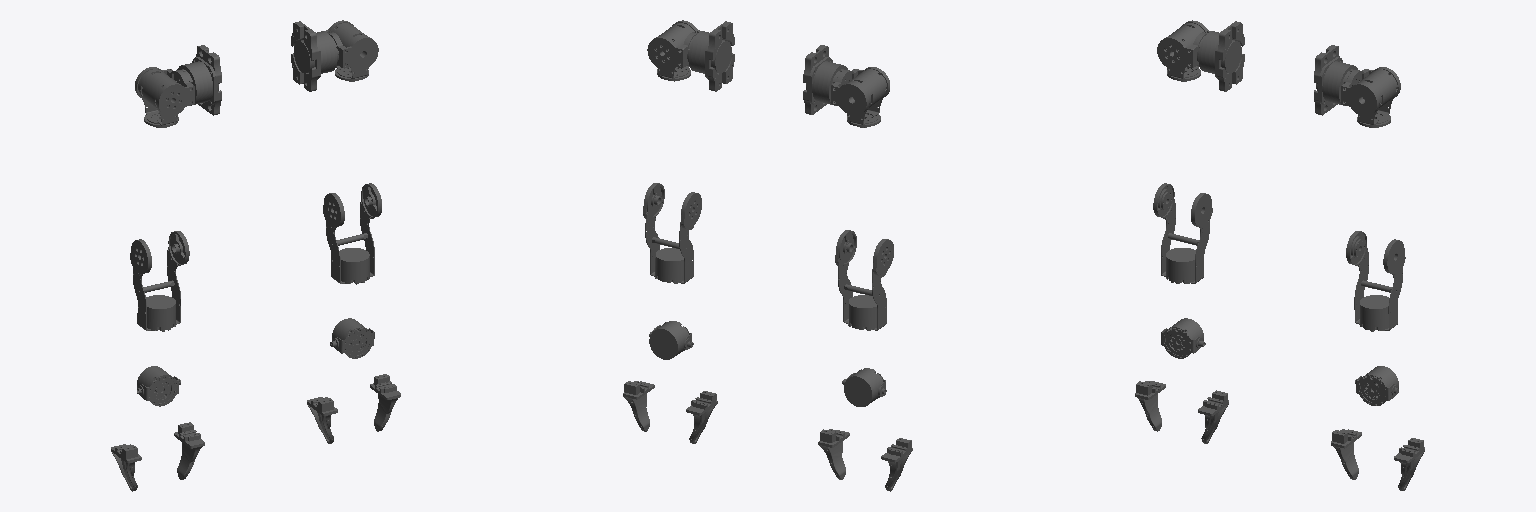
--- Render facts (derived) ---
Views: 3 orthographic renders of the robot side by side, from view 1: azimuth 30°, elevation 25°; view 2: azimuth 150°, elevation 25°; view 3: azimuth 330°, elevation 25°.
Robot: openarm_bimanual — 40 links, 39 joints (14 revolute, 4 prismatic, 21 fixed); root link world; default pose: every joint at zero.
Links seen in each view (by area): view 1: left_link5, right_link5, left_link1, right_link1, right_link2, right_link3, left_link7, right_link7, left_link2, right_link_left_jaw, left_link_left_jaw, left_link3 (+2 smaller); view 2: right_link5, left_link5, left_link1, right_link1, right_link2, right_link3, left_link7, right_link7, left_link2, right_link_left_jaw, left_link_left_jaw, left_link_right_jaw (+2 smaller); view 3: left_link5, right_link5, right_link1, left_link1, left_link2, right_link7, left_link3, left_link7, right_link2, left_link_right_jaw, right_link_right_jaw, left_link_left_jaw (+2 smaller).
Link boxes in pixels (<box>): left_link5: <box>323,183,381,284</box>; right_link5: <box>130,231,189,331</box>; left_link1: <box>291,21,338,91</box>; right_link1: <box>177,45,221,115</box>; right_link2: <box>135,67,194,115</box>; right_link3: <box>138,69,178,127</box>; left_link7: <box>330,318,374,358</box>; right_link7: <box>137,366,180,406</box>; left_link2: <box>325,20,378,69</box>; right_link_left_jaw: <box>174,422,204,479</box>; left_link_left_jaw: <box>370,374,400,431</box>; left_link3: <box>331,23,368,81</box>; right_link5: <box>835,230,893,330</box>; left_link5: <box>643,183,701,283</box>; left_link1: <box>687,21,734,91</box>; right_link1: <box>803,45,847,114</box>; right_link2: <box>831,67,889,115</box>; right_link3: <box>847,69,886,127</box>; left_link7: <box>649,321,693,359</box>; right_link7: <box>842,368,886,406</box>; left_link2: <box>647,20,699,69</box>; right_link_left_jaw: <box>818,429,849,479</box>; left_link_left_jaw: <box>623,381,654,431</box>; left_link_right_jaw: <box>686,391,717,443</box>; left_link5: <box>1346,231,1405,331</box>; right_link5: <box>1153,183,1212,283</box>; right_link1: <box>1197,21,1244,91</box>; left_link1: <box>1314,45,1357,115</box>; left_link2: <box>1341,67,1400,115</box>; right_link7: <box>1161,318,1205,358</box>; left_link3: <box>1357,69,1397,127</box>; left_link7: <box>1355,366,1398,405</box>; right_link2: <box>1157,20,1209,69</box>; left_link_right_jaw: <box>1331,429,1361,479</box>; right_link_right_jaw: <box>1135,381,1165,431</box>; left_link_left_jaw: <box>1394,438,1424,490</box>.
Size in the robot's own frame: 0.5428 by 0.082 by 0.7993 metres.
Meshes: 13 distinct files referenced, 14 mesh visuals loaded (8 binary STL); not drawn: 7 (reference not matched to a file when rendering), 1 (reference in a form the renderer does not follow; not among the files counted above).

URDF robot description (openarm_bimanual):
<?xml version="1.0" ?>
<!-- =================================================================================== -->
<!-- |    This document was autogenerated by xacro from openarm_bimanual.urdf.xacro    | -->
<!-- |    EDITING THIS FILE BY HAND IS NOT RECOMMENDED                                 | -->
<!-- =================================================================================== -->
<robot name="openarm_bimanual">
  <material name="gray">
    <color rgba="0.4117647058823529 0.4117647058823529 0.4117647058823529 1.0"/>
  </material>
  <material name="dark_gray">
    <color rgba="0.19607843137254902 0.19607843137254902 0.19607843137254902 1.0"/>
  </material>
  <link name="pedestal_link">
    <visual>
      <origin rpy="0 0 0" xyz="0.0 0.0 0.0"/>
      <geometry>
        <mesh filename="package://openarm_bimanual_description/meshes/pedestal_link.stl"/>
      </geometry>
      <material name="gray">
        <color rgba="0.4117647058823529 0.4117647058823529 0.4117647058823529 1.0"/>
      </material>
    </visual>
    <collision>
      <origin rpy="0 0 0" xyz="0.0 0.0 0.489"/>
      <geometry>
        <box size="0.18 0.06 0.978000000000004"/>
      </geometry>
    </collision>
    <inertial>
      <mass value="4.850309883435878"/>
      <origin rpy="0 0 0" xyz="0.0 -0.0180451 0.410247"/>
      <inertia ixx="0.6232810322991779" ixy="7.916644206828546e-12" ixz="-1.094192214704477e-11" iyy="0.6253514495087933" iyz="-0.03342233248166168" izz="0.02000994027356939"/>
    </inertial>
  </link>
  <material name="aluminum">
    <color rgba="0.5 0.5 0.5 1"/>
  </material>
  <material name="plastic">
    <color rgba="0.1 0.1 0.1 1"/>
  </material>
  <!-- camera body, with origin at bottom screw mount -->
  <joint name="camera_joint" type="fixed">
    <origin rpy="0.0 1.3962634015954636 -1.5707963267948966" xyz="0.0 -0.025 0.995216"/>
    <parent link="pedestal_link"/>
    <child link="camera_bottom_screw_frame"/>
  </joint>
  <link name="camera_bottom_screw_frame"/>
  <joint name="camera_link_joint" type="fixed">
    <origin rpy="0 0 0" xyz="0.010600000000000002 0.0175 0.0125"/>
    <parent link="camera_bottom_screw_frame"/>
    <child link="camera_link"/>
  </joint>
  <link name="camera_link">
    <visual>
      <!-- the mesh origin is at front plate in between the two infrared camera axes -->
      <origin rpy="1.5707963267948966 0 1.5707963267948966" xyz="0.0043 -0.0175 0"/>
      <geometry>
        <mesh filename="file:///opt/ros/humble/share/realsense2_description/meshes/d435.dae"/>
      </geometry>
    </visual>
    <collision>
      <origin rpy="0 0 0" xyz="0 -0.0175 0"/>
      <geometry>
        <box size="0.02505 0.09 0.025"/>
      </geometry>
    </collision>
    <inertial>
      <!-- The following are not reliable values, and should not be used for modeling -->
      <mass value="0.072"/>
      <origin xyz="0 0 0"/>
      <inertia ixx="0.003881243" ixy="0.0" ixz="0.0" iyy="0.000498940" iyz="0.0" izz="0.003879257"/>
    </inertial>
  </link>
  <!-- camera depth joints and links -->
  <joint name="camera_depth_joint" type="fixed">
    <origin rpy="0 0 0" xyz="0 0 0"/>
    <parent link="camera_link"/>
    <child link="camera_depth_frame"/>
  </joint>
  <link name="camera_depth_frame"/>
  <joint name="camera_depth_optical_joint" type="fixed">
    <origin rpy="-1.5707963267948966 0 -1.5707963267948966" xyz="0 0 0"/>
    <parent link="camera_depth_frame"/>
    <child link="camera_depth_optical_frame"/>
  </joint>
  <link name="camera_depth_optical_frame"/>
  <!-- camera left IR joints and links -->
  <joint name="camera_infra1_joint" type="fixed">
    <origin rpy="0 0 0" xyz="0 0.0 0"/>
    <parent link="camera_link"/>
    <child link="camera_infra1_frame"/>
  </joint>
  <link name="camera_infra1_frame"/>
  <joint name="camera_infra1_optical_joint" type="fixed">
    <origin rpy="-1.5707963267948966 0 -1.5707963267948966" xyz="0 0 0"/>
    <parent link="camera_infra1_frame"/>
    <child link="camera_infra1_optical_frame"/>
  </joint>
  <link name="camera_infra1_optical_frame"/>
  <!-- camera right IR joints and links -->
  <joint name="camera_infra2_joint" type="fixed">
    <origin rpy="0 0 0" xyz="0 -0.05 0"/>
    <parent link="camera_link"/>
    <child link="camera_infra2_frame"/>
  </joint>
  <link name="camera_infra2_frame"/>
  <joint name="camera_infra2_optical_joint" type="fixed">
    <origin rpy="-1.5707963267948966 0 -1.5707963267948966" xyz="0 0 0"/>
    <parent link="camera_infra2_frame"/>
    <child link="camera_infra2_optical_frame"/>
  </joint>
  <link name="camera_infra2_optical_frame"/>
  <!-- camera color joints and links -->
  <joint name="camera_color_joint" type="fixed">
    <origin rpy="0 0 0" xyz="0 0.015 0"/>
    <parent link="camera_link"/>
    <child link="camera_color_frame"/>
  </joint>
  <link name="camera_color_frame"/>
  <joint name="camera_color_optical_joint" type="fixed">
    <origin rpy="-1.5707963267948966 0 -1.5707963267948966" xyz="0 0 0"/>
    <parent link="camera_color_frame"/>
    <child link="camera_color_optical_frame"/>
  </joint>
  <link name="camera_color_optical_frame"/>
  <link name="camera_accel_frame"/>
  <link name="camera_accel_optical_frame"/>
  <link name="camera_gyro_frame"/>
  <link name="camera_gyro_optical_frame"/>
  <joint name="camera_accel_joint" type="fixed">
    <origin rpy="0 0 0" xyz="-0.01174 -0.00552 0.0051"/>
    <parent link="camera_link"/>
    <child link="camera_accel_frame"/>
  </joint>
  <joint name="camera_accel_optical_joint" type="fixed">
    <origin rpy="-1.5707963267948966 0 -1.5707963267948966" xyz="0 0 0"/>
    <parent link="camera_accel_frame"/>
    <child link="camera_accel_optical_frame"/>
  </joint>
  <joint name="camera_gyro_joint" type="fixed">
    <origin rpy="0 0 0" xyz="-0.01174 -0.00552 0.0051"/>
    <parent link="camera_link"/>
    <child link="camera_gyro_frame"/>
  </joint>
  <joint name="camera_gyro_optical_joint" type="fixed">
    <origin rpy="-1.5707963267948966 0 -1.5707963267948966" xyz="0 0 0"/>
    <parent link="camera_gyro_frame"/>
    <child link="camera_gyro_optical_frame"/>
  </joint>
  <link name="world"/>
  <joint name="dummy_joint" type="fixed">
    <parent link="world"/>
    <child link="pedestal_link"/>
    <origin rpy="0.0 0.0 0.0" xyz="0.0 0.0 0.0"/>
  </joint>
  <!-- side right, left -->
  <!-- recommended prefixes left_, right_, etc. -->
  <!-- zero_pos up, arm -->
  <ros2_control name="right_OpenArmHW" type="system">
    <hardware>
      <!-- By default, set up controllers for simulation. This won't work on real hardware -->
      <!-- <plugin>mock_components/GenericSystem</plugin> -->
      <plugin>openarm_hardware/OpenArmHW</plugin>
      <param name="prefix">right_</param>
      <param name="can_device">can0</param>
    </hardware>
    <joint name="right_rev1">
      <command_interface name="position"/>
      <command_interface name="velocity"/>
      <command_interface name="effort"/>
      <state_interface name="position"/>
      <state_interface name="velocity"/>
      <state_interface name="effort"/>
    </joint>
    <joint name="right_rev2">
      <command_interface name="position"/>
      <command_interface name="velocity"/>
      <command_interface name="effort"/>
      <state_interface name="position"/>
      <state_interface name="velocity"/>
      <state_interface name="effort"/>
    </joint>
    <joint name="right_rev3">
      <command_interface name="position"/>
      <command_interface name="velocity"/>
      <command_interface name="effort"/>
      <state_interface name="position"/>
      <state_interface name="velocity"/>
      <state_interface name="effort"/>
    </joint>
    <joint name="right_rev4">
      <command_interface name="position"/>
      <command_interface name="velocity"/>
      <command_interface name="effort"/>
      <state_interface name="position"/>
      <state_interface name="velocity"/>
      <state_interface name="effort"/>
    </joint>
    <joint name="right_rev5">
      <command_interface name="position"/>
      <command_interface name="velocity"/>
      <command_interface name="effort"/>
      <state_interface name="position"/>
      <state_interface name="velocity"/>
      <state_interface name="effort"/>
    </joint>
    <joint name="right_rev6">
      <command_interface name="position"/>
      <command_interface name="velocity"/>
      <command_interface name="effort"/>
      <state_interface name="position"/>
      <state_interface name="velocity"/>
      <state_interface name="effort"/>
    </joint>
    <joint name="right_rev7">
      <command_interface name="position"/>
      <command_interface name="velocity"/>
      <command_interface name="effort"/>
      <state_interface name="position"/>
      <state_interface name="velocity"/>
      <state_interface name="effort"/>
    </joint>
    <joint name="right_left_pris1">
      <command_interface name="position"/>
      <state_interface name="position"/>
      <state_interface name="velocity"/>
    </joint>
    <!-- <joint name="${prefix}right_pris2">
                <state_interface name="position">
                  <param name="initial_value">${initial_positions['right_pris2']}</param>
                </state_interface>
            </joint> -->
  </ros2_control>
  <link name="right_dummy_link"/>
  <joint name="right_dummy_joint" type="fixed">
    <parent link="right_dummy_link"/>
    <child link="right_link1"/>
  </joint>
  <link name="right_link1">
    <visual>
      <origin rpy="0 0 0" xyz="0.0 0.0 -0.0007"/>
      <geometry>
        <mesh filename="package://openarm_description/meshes/link1.stl"/>
      </geometry>
      <material name="gray"/>
    </visual>
    <collision>
      <origin rpy="0 0 0" xyz="0.0 0.0 0.0289"/>
      <geometry>
        <box size="0.11 0.073 0.0592"/>
      </geometry>
    </collision>
    <inertial>
      <mass value="0.5769283920617254"/>
      <origin rpy="0 0 0" xyz="0.0 2.52845e-05 0.0229621"/>
      <inertia ixx="0.00034035167574060775" ixy="-2.623557985991217e-18" ixz="-6.093726095527621e-18" iyy="0.0004300058300010205" iyz="-5.09829482074806e-07" izz="0.0004802171432001996"/>
    </inertial>
  </link>
  <link name="right_link2">
    <visual>
      <origin rpy="0 0 0" xyz="0.0 0.0 -0.05395"/>
      <geometry>
        <mesh filename="package://openarm_description/meshes/link2.stl"/>
      </geometry>
      <material name="gray"/>
    </visual>
    <collision>
      <origin rpy="0 0 0" xyz="0.0 0.0 0.0371236"/>
      <geometry>
        <box size="0.0590000000149012 0.08200000000000002 0.0742471498637348"/>
      </geometry>
    </collision>
    <inertial>
      <mass value="0.16257504134917358"/>
      <origin rpy="0 0 0" xyz="-0.000225878 -0.00183836 0.0278368"/>
      <inertia ixx="0.00023903110213294374" ixy="-7.551692921096027e-08" ixz="-1.1282723362433474e-06" iyy="0.00010490798314778774" iyz="5.9079627839725245e-06" izz="0.00019737368685935776"/>
    </inertial>
  </link>
  <link name="right_link3">
    <visual>
      <origin rpy="1.5707963267948966 0 0" xyz="0.0 0.0987 0.02975"/>
      <geometry>
        <mesh filename="package://openarm_description/meshes/link3.stl"/>
      </geometry>
      <material name="gray"/>
    </visual>
    <collision>
      <origin rpy="1.5707963267948966 0 0" xyz="-0.0164466 -0.00045542 0.02975"/>
      <geometry>
        <box size="0.08989101803441879 0.06999999999999983 0.05903276947803012"/>
      </geometry>
    </collision>
    <inertial>
      <mass value="0.4201676469910031"/>
      <origin rpy="1.5707963267948966 0 0" xyz="-0.00688022 0.0 0.0282752"/>
      <inertia ixx="0.00020256001126230057" ixy="6.004247875311213e-06" ixz="1.3304903057525575e-06" iyy="0.0002970624991387495" iyz="5.980157765704868e-07" izz="0.00032889994351244413"/>
    </inertial>
  </link>
  <link name="right_link4">
    <visual>
      <origin rpy="3.141592653589793 -1.5620381439005742 0" xyz="-0.0986962 0.0 0.0621144"/>
      <geometry>
        <mesh filename="package://openarm_description/meshes/link4.stl"/>
      </geometry>
      <material name="gray"/>
    </visual>
    <collision>
      <origin rpy="3.141592653589793 -1.5620381439005742 0" xyz="0.000266276 -0.0125642 -0.132604"/>
      <geometry>
        <box size="0.27584673777150337 0.08211429171582063 0.07186573179325861"/>
      </geometry>
    </collision>
    <inertial>
      <mass value="0.819475539373447"/>
      <origin rpy="3.141592653589793 -1.5620381439005742 0" xyz="0.000781326 -0.0019461 -0.132411"/>
      <inertia ixx="0.00044078452033976287" ixy="6.020023694043618e-05" ixz="0.00014637459261941218" iyy="0.009208791480530413" iyz="1.5469710436444469e-06" izz="0.009170539316023695"/>
    </inertial>
  </link>
  <link name="right_link5">
    <visual>
      <origin rpy="0 -0.008758182894317394 0" xyz="0.303864 0.0 -0.128451"/>
      <geometry>
        <mesh filename="package://openarm_description/meshes/link5.stl"/>
      </geometry>
      <material name="gray"/>
    </visual>
    <collision>
      <origin rpy="0 -0.008758182894316818 0" xyz="-0.0542814 0.00265291 -0.0302022"/>
      <geometry>
        <box size="0.16827213220625828 0.06430555048399171 0.08257859967140947"/>
      </geometry>
    </collision>
    <inertial>
      <mass value="0.4086748254352304"/>
      <origin rpy="0 -0.008758182894316905 0" xyz="-0.0831891 0.00251789 -0.0290107"/>
      <inertia ixx="0.00031417157425298747" ixy="-1.1391566029536723e-05" ixz="-1.883474090056124e-05" iyy="0.001221711435313989" iyz="1.46725418421127e-06" izz="0.0010755135067660488"/>
    </inertial>
  </link>
  <link name="right_link6">
    <visual>
      <origin rpy="-2.1276679791326423 -1.5542266826921929 0" xyz="-0.0485412 -0.0860404 0.437784"/>
      <geometry>
        <mesh filename="package://openarm_description/meshes/link6_rightarm.stl"/>
      </geometry>
      <material name="gray"/>
    </visual>
    <collision>
      <origin rpy="-2.127667979132636 -1.5542266826921927 0" xyz="-0.00260794 -0.00312921 -0.0652641"/>
      <geometry>
        <box size="0.13114353004704765 0.05953478325301745 0.08817196195081879"/>
      </geometry>
    </collision>
    <inertial>
      <mass value="0.3448471958049249"/>
      <origin rpy="-2.127667979132636 -1.5542266826921927 0" xyz="-0.00898536 -0.0135065 -0.0438611"/>
      <inertia ixx="0.00019355980999748924" ixy="-1.0061665815148114e-06" ixz="-3.9096495715032716e-05" iyy="0.0003486912031865755" iyz="6.088060315273385e-06" izz="0.00028774975153756256"/>
    </inertial>
  </link>
  <link name="right_link7">
    <visual>
      <origin rpy="0 -0.008758182894510852 0" xyz="0.558839 -0.00358671 -0.0631962"/>
      <geometry>
        <mesh filename="package://openarm_description/meshes/link7_rightarm.stl"/>
      </geometry>
      <material name="gray"/>
    </visual>
    <collision>
      <origin rpy="0 -0.008758182894511114 0" xyz="-0.000318103 0.0022839 0.0340014"/>
      <geometry>
        <box size="0.058327402175132874 0.04432916698753661 0.08267601622411752"/>
      </geometry>
    </collision>
    <inertial>
      <mass value="0.2782138078738053"/>
      <origin rpy="0 -0.008758182894511043 0" xyz="5.99432e-05 0.0041433 0.0354274"/>
      <inertia ixx="0.00010424153315648891" ixy="2.735265831785291e-07" ixz="-1.0662322382945994e-07" iyy="0.00012313550743283462" iyz="-8.604996754782856e-08" izz="9.221319958512582e-05"/>
    </inertial>
  </link>
  <link name="right_link8">
    <visual>
      <origin rpy="1.5709195259578714 -0.014065461951077267 0" xyz="0.557948 0.103587 0.019724"/>
      <geometry>
        <mesh filename="package://openarm_description/meshes/link8.stl"/>
      </geometry>
      <material name="gray"/>
    </visual>
    <collision>
      <origin rpy="1.5709195259578714 -0.01406546195107726 0" xyz="-0.042694 -0.000543176 0.0110286"/>
      <geometry>
        <box size="0.13038799671743653 0.05180887692688926 0.1601236763440867"/>
      </geometry>
    </collision>
    <inertial>
      <mass value="0.31261452743802165"/>
      <origin rpy="1.5709195259578714 -0.01406546195107726 0" xyz="-0.0607602 -0.000341696 0.00876618"/>
      <inertia ixx="0.00023465661366788053" ixy="7.609048882006294e-05" ixz="3.088694121124684e-07" iyy="0.0005065459365215377" iyz="1.9022818028658623e-07" izz="0.0003737029250058136"/>
    </inertial>
  </link>
  <link name="right_gripper_center"/>
  <link name="right_link_left_jaw">
    <visual>
      <origin rpy="0 -0.008758182894469432 0" xyz="0.665265 -0.00286677 -0.0209282"/>
      <geometry>
        <mesh filename="package://openarm_description/meshes/left_jaw.stl"/>
      </geometry>
      <material name="gray"/>
    </visual>
    <collision>
      <origin rpy="0 -0.0087581828944695 0" xyz="0.665265 -0.00286677 -0.0209282"/>
      <geometry>
        <mesh filename="package://openarm_description/meshes/left_jaw.stl"/>
      </geometry>
    </collision>
    <inertial>
      <mass value="0.04297897856394934"/>
      <origin rpy="0 -0.008758182894469429 0" xyz="-0.0187138 0.00217075 0.0159499"/>
      <inertia ixx="1.1771768742932353e-05" ixy="-2.389928166589898e-06" ixz="3.999292204534159e-06" iyy="2.3837354480794824e-05" iyz="3.494431877242991e-07" izz="3.0474590214086944e-05"/>
    </inertial>
  </link>
  <link name="right_link_right_jaw">
    <visual>
      <origin rpy="0 -0.008758182898001485 0" xyz="0.665265 -0.00286677 -0.175928"/>
      <geometry>
        <mesh filename="package://openarm_description/meshes/right_jaw.stl"/>
      </geometry>
      <material name="gray"/>
    </visual>
    <collision>
      <origin rpy="0 -0.008758182898001553 0" xyz="0.665265 -0.00286677 -0.175928"/>
      <geometry>
        <mesh filename="package://openarm_description/meshes/right_jaw.stl"/>
      </geometry>
    </collision>
    <inertial>
      <mass value="0.042981665301134515"/>
      <origin rpy="0 -0.00875818289800148 0" xyz="-0.0187844 -0.00272415 -0.0159503"/>
      <inertia ixx="1.1561293087621594e-05" ixy="2.537718468008212e-06" ixz="-3.6591812257702003e-06" iyy="2.370165527871047e-05" iyz="4.848038235889027e-07" izz="3.039652946542647e-05"/>
    </inertial>
  </link>
  <joint name="right_rev1" type="revolute">
    <parent link="right_link1"/>
    <child link="right_link2"/>
    <origin rpy="0 0 0" xyz="0.0 0.0 0.05325"/>
    <axis xyz="0 0 1"/>
    <limit effort="0.0" lower="-2.0943951023931953" upper="2.0943951023931953" velocity="0.0"/>
  </joint>
  <joint name="right_rev2" type="revolute">
    <parent link="right_link2"/>
    <child link="right_link3"/>
    <origin rpy="-1.5707963267948968 0.0 0.0" xyz="0.0 -0.02975 0.04475"/>
    <axis xyz="0 0 1"/>
    <limit effort="0.0" lower="0" upper="3.141592653589793" velocity="0.0"/>
  </joint>
  <joint name="right_rev3" type="revolute">
    <parent link="right_link3"/>
    <child link="right_link4"/>
    <origin rpy="-1.5707963267949054 0 -1.562038143900564" xyz="-0.0612477 -0.000536432 0.02975"/>
    <axis xyz="0 0 -1"/>
    <limit effort="0.0" lower="-0.52359" upper="3.66519" velocity="0.0"/>
  </joint>
  <joint name="right_rev4" type="revolute">
    <parent link="right_link4"/>
    <child link="right_link5"/>
    <origin rpy="-0.20701608758495998 -1.5707963267948566 -2.937419385117548" xyz="0.0297547 0.0 -0.24175"/>
    <axis xyz="0 0 1"/>
    <limit effort="0.0" lower="-0.3490658503988659" upper="2.792526803190927" velocity="0.0"/>
  </joint>
  <joint name="right_rev5" type="revolute">
    <parent link="right_link5"/>
    <child link="right_link6"/>
    <origin rpy="1.5707963267948473 -0.5569332500492129 1.556730325338251" xyz="-0.133937 0.00188408 -0.0297547"/>
    <axis xyz="0 0 -1"/>
    <limit effort="0.0" lower="-2.0943951023931953" upper="2.0943951023931953" velocity="0.0"/>
  </joint>
  <joint name="right_rev6" type="revolute">
    <parent link="right_link6"/>
    <child link="right_link7"/>
    <origin rpy="-1.5707963268024898 -1.5567303253382425 -0.5569332500461536" xyz="-0.0187648 -0.0301352 -0.12105"/>
    <axis xyz="0 0 1"/>
    <limit effort="0.0" lower="-1.5707963267948966" upper="1.5707963267948966" velocity="0.0"/>
  </joint>
  <joint name="right_rev7" type="revolute">
    <parent link="right_link7"/>
    <child link="right_link8"/>
    <origin rpy="-1.5707963267950005 -0.00875904933536772 -0.014066001454933467" xyz="-0.000217313 -0.0154485 0.0355"/>
    <axis xyz="0 0 -1"/>
    <limit effort="0.0" lower="-0.9599310885968813" upper="0.9599310885968813" velocity="0.0"/>
  </joint>
  <joint name="right_left_pris1" type="prismatic">
    <parent link="right_link8"/>
    <child link="right_link_left_jaw"/>
    <origin rpy="1.570796326795101 -0.014066001454929162 0.00875904933542146" xyz="-0.1071 0.0768568 0.0132053"/>
    <axis xyz="0 0 -1"/>
    <limit effort="0.0" lower="-0.0451" upper="0.0" velocity="0.1"/>
  </joint>
  <joint name="right_right_pris2" type="prismatic">
    <parent link="right_link8"/>
    <child link="right_link_right_jaw"/>
    <origin rpy="1.570796326794883 -0.014066001454927403 0.008759049336290027" xyz="-0.10571 -0.0781373 0.0132053"/>
    <axis xyz="0 0 -1"/>
    <limit effort="0.0" lower="-0.0451" upper="0.0" velocity="0.0"/>
    <mimic joint="right_left_pris1" multiplier="-1.0" offset="0.0"/>
  </joint>
  <joint name="right_virtual_gripper_center" type="fixed">
    <parent link="right_link8"/>
    <child link="right_gripper_center"/>
    <origin rpy="0 0 0" xyz="-0.13 0.00 0.0132053"/>
  </joint>
  <joint name="right_fixed1" type="fixed">
    <parent link="pedestal_link"/>
    <child link="right_dummy_link"/>
    <origin rpy="6.160245846096606 -1.5707963267948268 0.12293946108298068" xyz="-0.09 0.0 0.893"/>
  </joint>
  <!-- side right, left -->
  <!-- recommended prefixes left_, right_, etc. -->
  <!-- zero_pos up, arm -->
  <ros2_control name="left_OpenArmHW" type="system">
    <hardware>
      <!-- By default, set up controllers for simulation. This won't work on real hardware -->
      <!-- <plugin>mock_components/GenericSystem</plugin> -->
      <plugin>openarm_hardware/OpenArmHW</plugin>
      <param name="prefix">left_</param>
      <param name="can_device">can1</param>
    </hardware>
    <joint name="left_rev1">
      <command_interface name="position"/>
      <command_interface name="velocity"/>
      <command_interface name="effort"/>
      <state_interface name="position"/>
      <state_interface name="velocity"/>
      <state_interface name="effort"/>
    </joint>
    <joint name="left_rev2">
      <command_interface name="position"/>
      <command_interface name="velocity"/>
      <command_interface name="effort"/>
      <state_interface name="position"/>
      <state_interface name="velocity"/>
      <state_interface name="effort"/>
    </joint>
    <joint name="left_rev3">
      <command_interface name="position"/>
      <command_interface name="velocity"/>
      <command_interface name="effort"/>
      <state_interface name="position"/>
      <state_interface name="velocity"/>
      <state_interface name="effort"/>
    </joint>
    <joint name="left_rev4">
      <command_interface name="position"/>
      <command_interface name="velocity"/>
      <command_interface name="effort"/>
      <state_interface name="position"/>
      <state_interface name="velocity"/>
      <state_interface name="effort"/>
    </joint>
    <joint name="left_rev5">
      <command_interface name="position"/>
      <command_interface name="velocity"/>
      <command_interface name="effort"/>
      <state_interface name="position"/>
      <state_interface name="velocity"/>
      <state_interface name="effort"/>
    </joint>
    <joint name="left_rev6">
      <command_interface name="position"/>
      <command_interface name="velocity"/>
      <command_interface name="effort"/>
      <state_interface name="position"/>
      <state_interface name="velocity"/>
      <state_interface name="effort"/>
    </joint>
    <joint name="left_rev7">
      <command_interface name="position"/>
      <command_interface name="velocity"/>
      <command_interface name="effort"/>
      <state_interface name="position"/>
      <state_interface name="velocity"/>
      <state_interface name="effort"/>
    </joint>
    <joint name="left_left_pris1">
      <command_interface name="position"/>
      <state_interface name="position"/>
      <state_interface name="velocity"/>
    </joint>
    <!-- <joint name="${prefix}right_pris2">
                <state_interface name="position">
                  <param name="initial_value">${initial_positions['right_pris2']}</param>
                </state_interface>
            </joint> -->
  </ros2_control>
  <link name="left_dummy_link"/>
  <joint name="left_dummy_joint" type="fixed">
    <parent link="left_dummy_link"/>
    <child link="left_link1"/>
  </joint>
  <link name="left_link1">
    <visual>
      <origin rpy="0 0 0" xyz="0.0 0.0 -0.0007"/>
      <geometry>
        <mesh filename="package://openarm_description/meshes/link1.stl"/>
      </geometry>
      <material name="gray"/>
    </visual>
    <collision>
      <origin rpy="0 0 0" xyz="0.0 0.0 0.0289"/>
      <geometry>
        <box size="0.11 0.073 0.0592"/>
      </geometry>
    </collision>
    <inertial>
      <mass value="0.5769283920617254"/>
      <origin rpy="0 0 0" xyz="0.0 2.52845e-05 0.0229621"/>
      <inertia ixx="0.00034035167574060775" ixy="-2.623557985991217e-18" ixz="-6.093726095527621e-18" iyy="0.0004300058300010205" iyz="-5.09829482074806e-07" izz="0.0004802171432001996"/>
    </inertial>
  </link>
  <link name="left_link2">
    <visual>
      <origin rpy="0 0 0" xyz="0.0 0.0 -0.05395"/>
      <geometry>
        <mesh filename="package://openarm_description/meshes/link2.stl"/>
      </geometry>
      <material name="gray"/>
    </visual>
    <collision>
      <origin rpy="0 0 0" xyz="0.0 0.0 0.0371236"/>
      <geometry>
        <box size="0.0590000000149012 0.08200000000000002 0.0742471498637348"/>
      </geometry>
    </collision>
    <inertial>
      <mass value="0.16257504134917358"/>
      <origin rpy="0 0 0" xyz="-0.000225878 -0.00183836 0.0278368"/>
      <inertia ixx="0.00023903110213294374" ixy="-7.551692921096027e-08" ixz="-1.1282723362433474e-06" iyy="0.00010490798314778774" iyz="5.9079627839725245e-06" izz="0.00019737368685935776"/>
    </inertial>
  </link>
  <link name="left_link3">
    <visual>
      <origin rpy="1.5707963267948966 0 0" xyz="0.0 0.0987 0.02975"/>
      <geometry>
        <mesh filename="package://openarm_description/meshes/link3.stl"/>
      </geometry>
      <material name="gray"/>
    </visual>
    <collision>
      <origin rpy="1.5707963267948966 0 0" xyz="-0.0164466 -0.00045542 0.02975"/>
      <geometry>
        <box size="0.08989101803441879 0.06999999999999983 0.05903276947803012"/>
      </geometry>
    </collision>
    <inertial>
      <mass value="0.4201676469910031"/>
      <origin rpy="1.5707963267948966 0 0" xyz="-0.00688022 0.0 0.0282752"/>
      <inertia ixx="0.00020256001126230057" ixy="6.004247875311213e-06" ixz="1.3304903057525575e-06" iyy="0.0002970624991387495" iyz="5.980157765704868e-07" izz="0.00032889994351244413"/>
    </inertial>
  </link>
  <link name="left_link4">
    <visual>
      <origin rpy="3.141592653589793 -1.5620381439005742 0" xyz="-0.0986962 0.0 0.0621144"/>
      <geometry>
        <mesh filename="package://openarm_description/meshes/link4.stl"/>
      </geometry>
      <material name="gray"/>
    </visual>
    <collision>
      <origin rpy="3.141592653589793 -1.5620381439005742 0" xyz="0.000266276 -0.0125642 -0.132604"/>
      <geometry>
        <box size="0.27584673777150337 0.08211429171582063 0.07186573179325861"/>
      </geometry>
    </collision>
    <inertial>
      <mass value="0.819475539373447"/>
      <origin rpy="3.141592653589793 -1.5620381439005742 0" xyz="0.000781326 -0.0019461 -0.132411"/>
      <inertia ixx="0.00044078452033976287" ixy="6.020023694043618e-05" ixz="0.00014637459261941218" iyy="0.009208791480530413" iyz="1.5469710436444469e-06" izz="0.009170539316023695"/>
    </inertial>
  </link>
  <link name="left_link5">
    <visual>
      <origin rpy="0 -0.008758182894317394 0" xyz="0.303864 0.0 -0.128451"/>
      <geometry>
        <mesh filename="package://openarm_description/meshes/link5.stl"/>
      </geometry>
      <material name="gray"/>
    </visual>
    <collision>
      <origin rpy="0 -0.008758182894316818 0" xyz="-0.0542814 0.00265291 -0.0302022"/>
      <geometry>
        <box size="0.16827213220625828 0.06430555048399171 0.08257859967140947"/>
      </geometry>
    </collision>
    <inertial>
      <mass value="0.4086748254352304"/>
      <origin rpy="0 -0.008758182894316905 0" xyz="-0.0831891 0.00251789 -0.0290107"/>
      <inertia ixx="0.00031417157425298747" ixy="-1.1391566029536723e-05" ixz="-1.883474090056124e-05" iyy="0.001221711435313989" iyz="1.46725418421127e-06" izz="0.0010755135067660488"/>
    </inertial>
  </link>
  <link name="left_link6">
    <visual>
      <origin rpy="5.269260632722435 1.5542266826921929 3.141592653589793" xyz="0.0605412 0.0878404 0.435484"/>
      <geometry>
        <mesh filename="package://openarm_description/meshes/link6_leftarm.stl"/>
      </geometry>
      <material name="gray"/>
    </visual>
    <collision>
      <origin rpy="-2.127667979132636 -1.5542266826921927 0" xyz="-0.00260794 -0.00312921 -0.0652641"/>
      <geometry>
        <box size="0.13114353004704765 0.05953478325301745 0.08817196195081879"/>
      </geometry>
    </collision>
    <inertial>
      <mass value="0.3448471958049249"/>
      <origin rpy="-2.127667979132636 -1.5542266826921927 0" xyz="-0.00898536 -0.0135065 -0.0438611"/>
      <inertia ixx="0.00019355980999748924" ixy="-1.0061665815148114e-06" ixz="-3.9096495715032716e-05" iyy="0.0003486912031865755" iyz="6.088060315273385e-06" izz="0.00028774975153756256"/>
    </inertial>
  </link>
  <link name="left_link7">
    <visual>
      <origin rpy="0 3.150350836484304 0" xyz="0.558839 -0.0034132900000000002 0.1341962"/>
      <geometry>
        <mesh filename="package://openarm_description/meshes/link7_leftarm.stl"/>
      </geometry>
      <material name="gray"/>
    </visual>
    <collision>
      <origin rpy="0 -0.008758182894511114 0" xyz="-0.000318103 0.0022839 0.0340014"/>
      <geometry>
        <box size="0.058327402175132874 0.04432916698753661 0.08267601622411752"/>
      </geometry>
    </collision>
    <inertial>
      <mass value="0.2782138078738053"/>
      <origin rpy="0 -0.008758182894511043 0" xyz="5.99432e-05 0.0041433 0.0354274"/>
      <inertia ixx="0.00010424153315648891" ixy="2.735265831785291e-07" ixz="-1.0662322382945994e-07" iyy="0.00012313550743283462" iyz="-8.604996754782856e-08" izz="9.221319958512582e-05"/>
    </inertial>
  </link>
  <link name="left_link8">
    <visual>
      <origin rpy="1.5709195259578714 -0.014065461951077267 0" xyz="0.557948 0.103587 0.019724"/>
      <geometry>
        <mesh filename="package://openarm_description/meshes/link8.stl"/>
      </geometry>
      <material name="gray"/>
    </visual>
    <collision>
      <origin rpy="1.5709195259578714 -0.01406546195107726 0" xyz="-0.042694 -0.000543176 0.0110286"/>
      <geometry>
        <box size="0.13038799671743653 0.05180887692688926 0.1601236763440867"/>
      </geometry>
    </collision>
    <inertial>
      <mass value="0.31261452743802165"/>
      <origin rpy="1.5709195259578714 -0.01406546195107726 0" xyz="-0.0607602 -0.000341696 0.00876618"/>
      <inertia ixx="0.00023465661366788053" ixy="7.609048882006294e-05" ixz="3.088694121124684e-07" iyy="0.0005065459365215377" iyz="1.9022818028658623e-07" izz="0.0003737029250058136"/>
    </inertial>
  </link>
  <link name="left_gripper_center"/>
  <link name="left_link_left_jaw">
    <visual>
      <origin rpy="0 -0.008758182894469432 0" xyz="0.665265 -0.00286677 -0.0209282"/>
      <geometry>
        <mesh filename="package://openarm_description/meshes/left_jaw.stl"/>
      </geometry>
      <material name="gray"/>
    </visual>
    <collision>
      <origin rpy="0 -0.0087581828944695 0" xyz="0.665265 -0.00286677 -0.0209282"/>
      <geometry>
        <mesh filename="package://openarm_description/meshes/left_jaw.stl"/>
      </geometry>
    </collision>
    <inertial>
      <mass value="0.04297897856394934"/>
      <origin rpy="0 -0.008758182894469429 0" xyz="-0.0187138 0.00217075 0.0159499"/>
      <inertia ixx="1.1771768742932353e-05" ixy="-2.389928166589898e-06" ixz="3.999292204534159e-06" iyy="2.3837354480794824e-05" iyz="3.494431877242991e-07" izz="3.0474590214086944e-05"/>
    </inertial>
  </link>
  <link name="left_link_right_jaw">
    <visual>
      <origin rpy="0 -0.008758182898001485 0" xyz="0.665265 -0.00286677 -0.175928"/>
      <geometry>
        <mesh filename="package://openarm_description/meshes/right_jaw.stl"/>
      </geometry>
      <material name="gray"/>
    </visual>
    <collision>
      <origin rpy="0 -0.008758182898001553 0" xyz="0.665265 -0.00286677 -0.175928"/>
      <geometry>
        <mesh filename="package://openarm_description/meshes/right_jaw.stl"/>
      </geometry>
    </collision>
    <inertial>
      <mass value="0.042981665301134515"/>
      <origin rpy="0 -0.00875818289800148 0" xyz="-0.0187844 -0.00272415 -0.0159503"/>
      <inertia ixx="1.1561293087621594e-05" ixy="2.537718468008212e-06" ixz="-3.6591812257702003e-06" iyy="2.370165527871047e-05" iyz="4.848038235889027e-07" izz="3.039652946542647e-05"/>
    </inertial>
  </link>
  <joint name="left_rev1" type="revolute">
    <parent link="left_link1"/>
    <child link="left_link2"/>
    <origin rpy="0 0 0" xyz="0.0 0.0 0.05325"/>
    <axis xyz="0 0 1"/>
    <limit effort="0.0" lower="-2.0943951023931953" upper="2.0943951023931953" velocity="0.0"/>
  </joint>
  <joint name="left_rev2" type="revolute">
    <parent link="left_link2"/>
    <child link="left_link3"/>
    <origin rpy="-1.5707963267948968 0.0 0.0" xyz="0.0 -0.02975 0.04475"/>
    <axis xyz="0 0 1"/>
    <limit effort="0.0" lower="0" upper="3.141592653589793" velocity="0.0"/>
  </joint>
  <joint name="left_rev3" type="revolute">
    <parent link="left_link3"/>
    <child link="left_link4"/>
    <origin rpy="-1.5707963267949054 3.141592653589793 -1.562038143900564" xyz="-0.0612477 -0.000536432 0.02975"/>
    <axis xyz="0 0 -1"/>
    <limit effort="0.0" lower="-3.66519" upper="0.52359" velocity="0.0"/>
  </joint>
  <joint name="left_rev4" type="revolute">
    <parent link="left_link4"/>
    <child link="left_link5"/>
    <origin rpy="-0.20701608758495998 -1.5707963267948566 -2.937419385117548" xyz="0.0297547 0.0 -0.24175"/>
    <axis xyz="0 0 1"/>
    <limit effort="0.0" lower="-0.3490658503988659" upper="2.792526803190927" velocity="0.0"/>
  </joint>
  <joint name="left_rev5" type="revolute">
    <parent link="left_link5"/>
    <child link="left_link6"/>
    <origin rpy="1.5707963267948473 -0.5569332500492129 1.556730325338251" xyz="-0.133937 0.00188408 -0.0297547"/>
    <axis xyz="0 0 -1"/>
    <limit effort="0.0" lower="-2.0943951023931953" upper="2.0943951023931953" velocity="0.0"/>
  </joint>
  <joint name="left_rev6" type="revolute">
    <parent link="left_link6"/>
    <child link="left_link7"/>
    <origin rpy="-1.5707963268024898 -1.5567303253382425 -0.5569332500461536" xyz="-0.0187648 -0.0301352 -0.12105"/>
    <axis xyz="0 0 -1"/>
    <limit effort="0.0" lower="-1.5707963267948966" upper="1.5707963267948966" velocity="0.0"/>
  </joint>
  <joint name="left_rev7" type="revolute">
    <parent link="left_link7"/>
    <child link="left_link8"/>
    <origin rpy="-1.5707963267950005 -0.00875904933536772 -0.014066001454933467" xyz="-0.000217313 -0.0154485 0.0355"/>
    <axis xyz="0 0 -1"/>
    <limit effort="0.0" lower="-0.9599310885968813" upper="0.9599310885968813" velocity="0.0"/>
  </joint>
  <joint name="left_left_pris1" type="prismatic">
    <parent link="left_link8"/>
    <child link="left_link_left_jaw"/>
    <origin rpy="1.570796326795101 -0.014066001454929162 0.00875904933542146" xyz="-0.1071 0.0768568 0.0132053"/>
    <axis xyz="0 0 -1"/>
    <limit effort="0.0" lower="-0.0451" upper="0.0" velocity="0.1"/>
  </joint>
  <joint name="left_right_pris2" type="prismatic">
    <parent link="left_link8"/>
    <child link="left_link_right_jaw"/>
    <origin rpy="1.570796326794883 -0.014066001454927403 0.008759049336290027" xyz="-0.10571 -0.0781373 0.0132053"/>
    <axis xyz="0 0 -1"/>
    <limit effort="0.0" lower="-0.0451" upper="0.0" velocity="0.0"/>
    <mimic joint="left_left_pris1" multiplier="-1.0" offset="0.0"/>
  </joint>
  <joint name="left_virtual_gripper_center" type="fixed">
    <parent link="left_link8"/>
    <child link="left_gripper_center"/>
    <origin rpy="0 0 0" xyz="-0.13 0.00 0.0132053"/>
  </joint>
  <joint name="left_fixed1" type="fixed">
    <parent link="pedestal_link"/>
    <child link="left_dummy_link"/>
    <origin rpy="3.0144791747751833 -1.5707963267948324 0.12689401604101067" xyz="0.09 0.0 0.893"/>
  </joint>
</robot>
